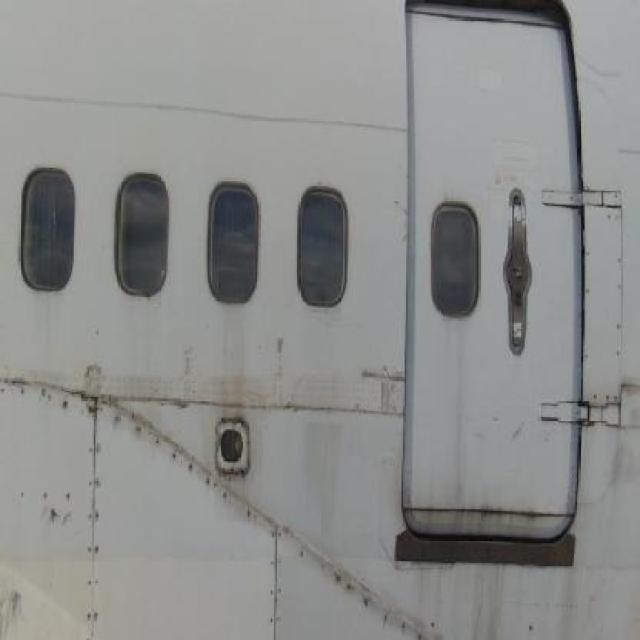Missing-Rivet: (118, 402, 250, 527), (62, 354, 115, 640), (295, 527, 426, 640), (580, 176, 634, 433), (255, 489, 293, 640), (1, 370, 64, 421)
Scartch: (328, 371, 419, 418)
